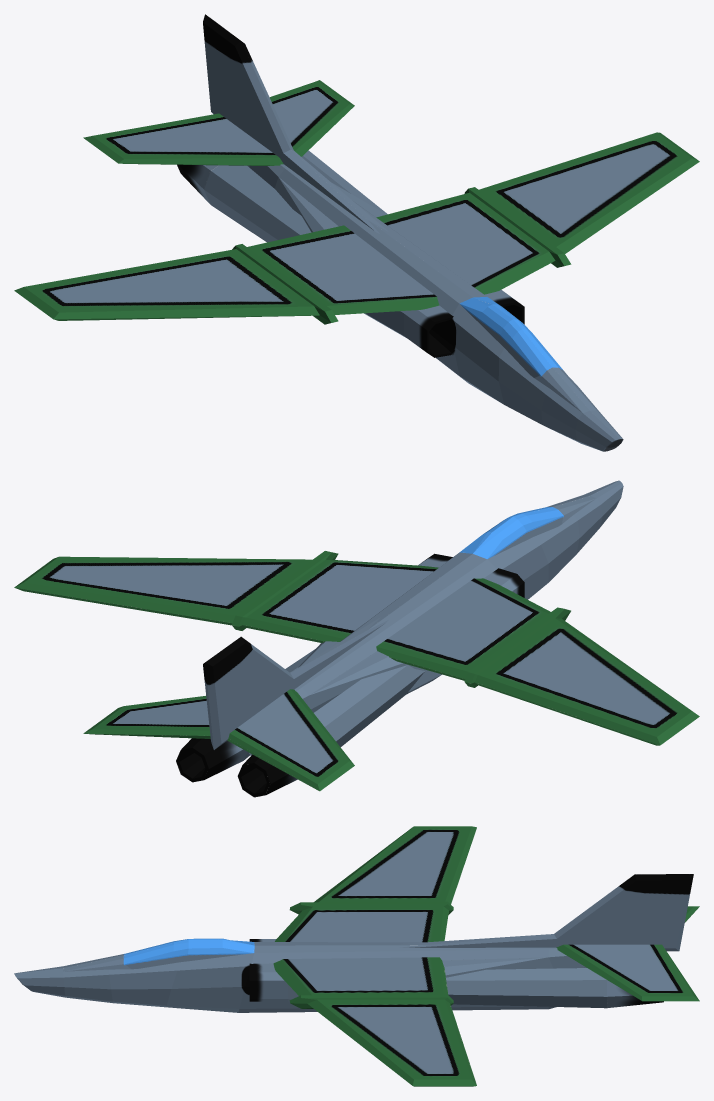
Rendered from Lynx.fbx.
The picture shows the model from 3 angles, top to bottom: view 1: azimuth 30°, elevation 25°; view 2: azimuth 150°, elevation 25°; view 3: azimuth 270°, elevation 25°; orthographic projection. The views are drawn at different scales.
Parts seen in each view (by area): view 1: Plane; view 2: Plane; view 3: Plane.
Boxes of the visible parts, bbox=[...] form: Plane: bbox=[14, 14, 699, 451]; Plane: bbox=[14, 480, 699, 797]; Plane: bbox=[14, 826, 699, 1086].
Size of the model in its own units: 605 by 147 by 678.
Materials: 1 (1 with a texture image).
